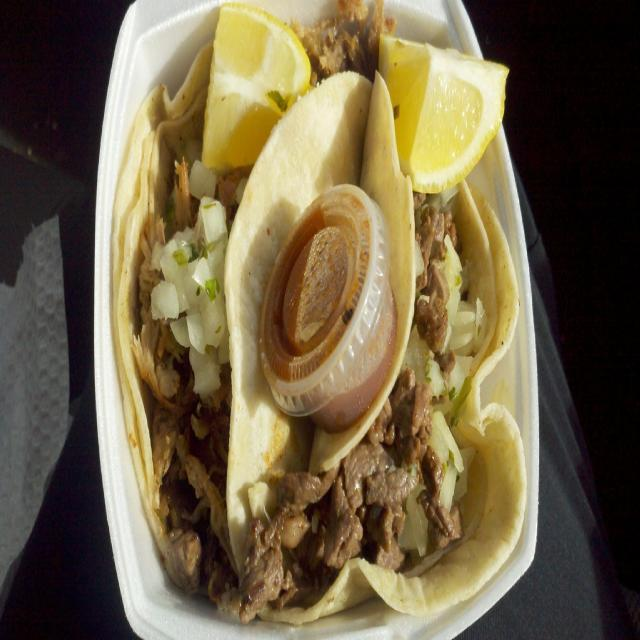Lemon: (377, 34, 512, 197), (200, 1, 312, 177)
